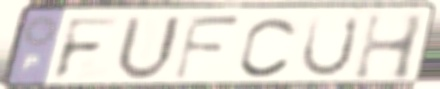C: (236, 15, 302, 80)
F: (49, 15, 125, 83), (170, 13, 244, 82)
H: (349, 10, 429, 82)
U: (111, 14, 185, 84), (297, 13, 364, 79)
